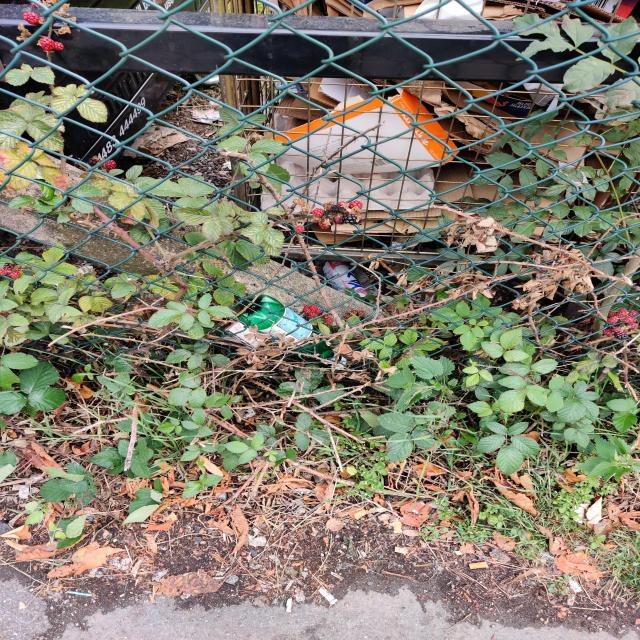litter: (202, 0, 636, 257), (221, 293, 354, 358)
